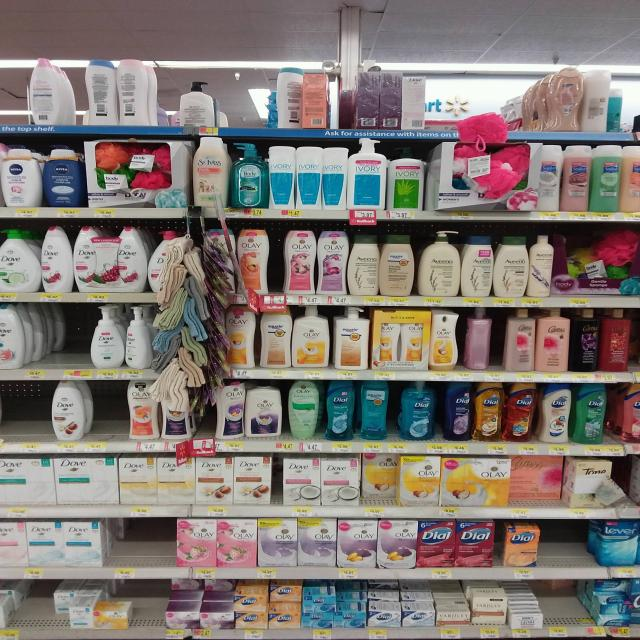empty: (26, 303, 105, 366), (216, 65, 277, 136), (99, 516, 184, 566), (536, 510, 602, 573), (3, 373, 49, 448), (7, 579, 59, 628), (119, 581, 167, 634), (88, 383, 135, 434), (541, 584, 590, 629)
